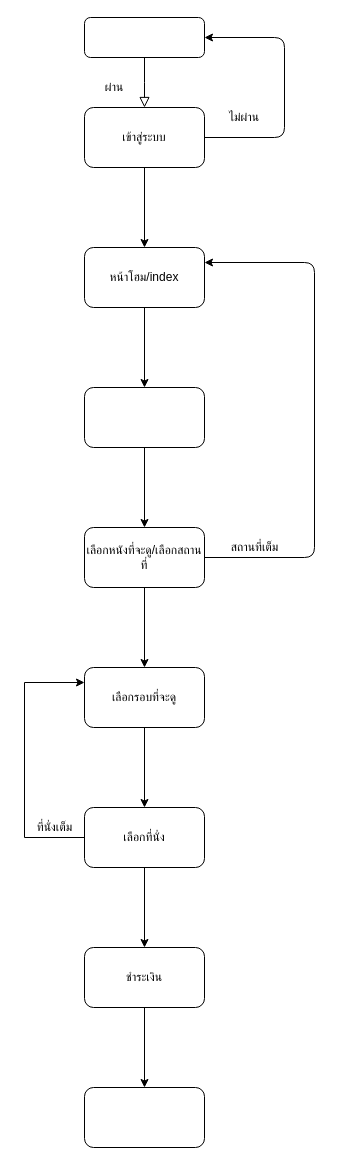
This 340x1165 diagram has some shape labels left out. The centre of each missing label's shape, as x and y in pixels:
ภาพยนต์: [144,417]
สมัครสมาชิก: [144,37]
เสร็จสิ้น/รอดูหนัง: [144,1117]
